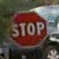stop: (8, 9, 48, 48)
